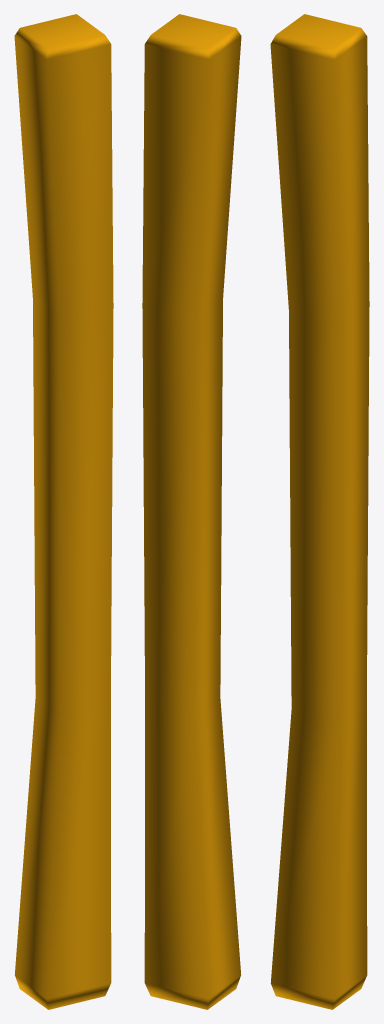
File: Beam_02.fbx
3 views of the same model, side by side, from view 1: azimuth 30°, elevation 25°; view 2: azimuth 150°, elevation 25°; view 3: azimuth 330°, elevation 25° (orthographic).
Parts seen in each view (by area): view 1: Beam_02; view 2: Beam_02; view 3: Beam_02.
Part boxes in pixels (x1,y1,x2,y2): Beam_02: (14,14,113,1009); Beam_02: (142,14,241,1009); Beam_02: (270,14,369,1009).
Size of the model in its own units: 13.34 by 177 by 10.83.
